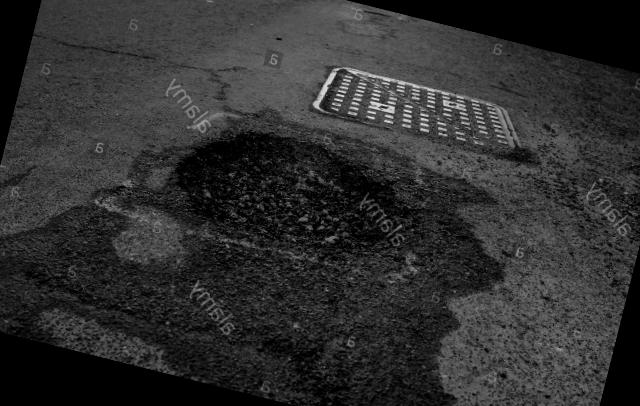Pothole: (110, 83, 480, 317), (0, 219, 370, 406)
